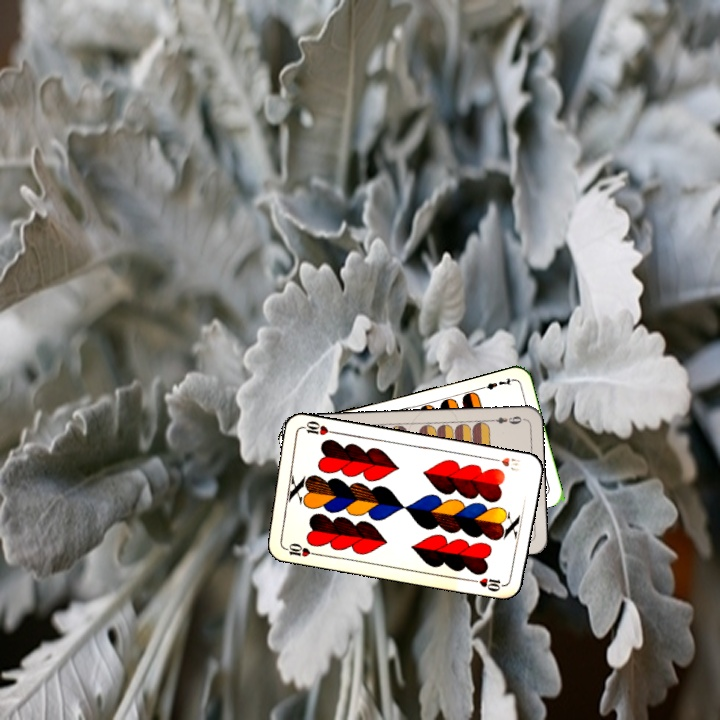E7: (475, 374, 515, 393)
E9: (485, 412, 526, 427)
H10: (279, 539, 320, 559), (486, 453, 523, 474)
